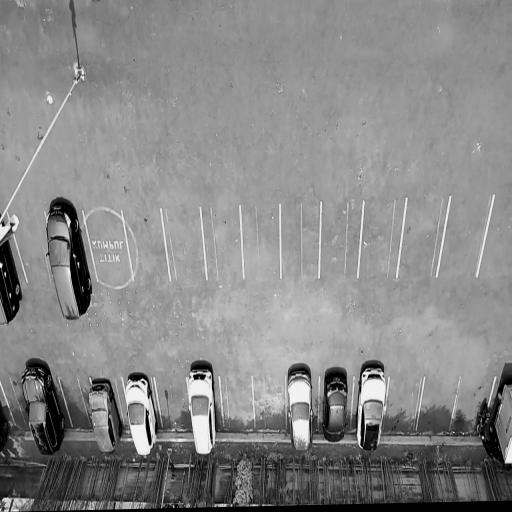Car: (44, 199, 96, 322), (17, 362, 70, 458), (120, 373, 162, 458), (86, 375, 126, 455), (353, 362, 388, 453), (186, 364, 218, 458), (0, 213, 25, 331), (484, 376, 512, 473), (288, 366, 315, 453), (322, 366, 351, 446)
Space Available: (437, 197, 493, 278), (397, 198, 450, 279), (358, 200, 406, 279), (82, 211, 134, 282), (122, 208, 170, 282), (320, 201, 364, 279), (161, 206, 206, 280), (8, 213, 52, 287), (280, 201, 321, 279), (201, 206, 244, 280), (240, 204, 281, 279), (416, 378, 460, 436), (382, 376, 425, 435), (155, 378, 191, 432), (58, 377, 93, 431), (220, 376, 255, 429), (253, 375, 286, 430), (0, 380, 30, 431)
